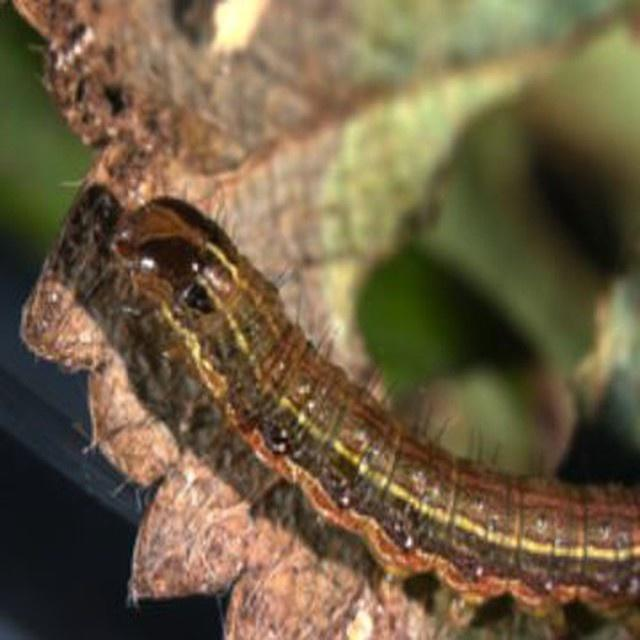gusano_cogollero: (105, 185, 640, 640)
